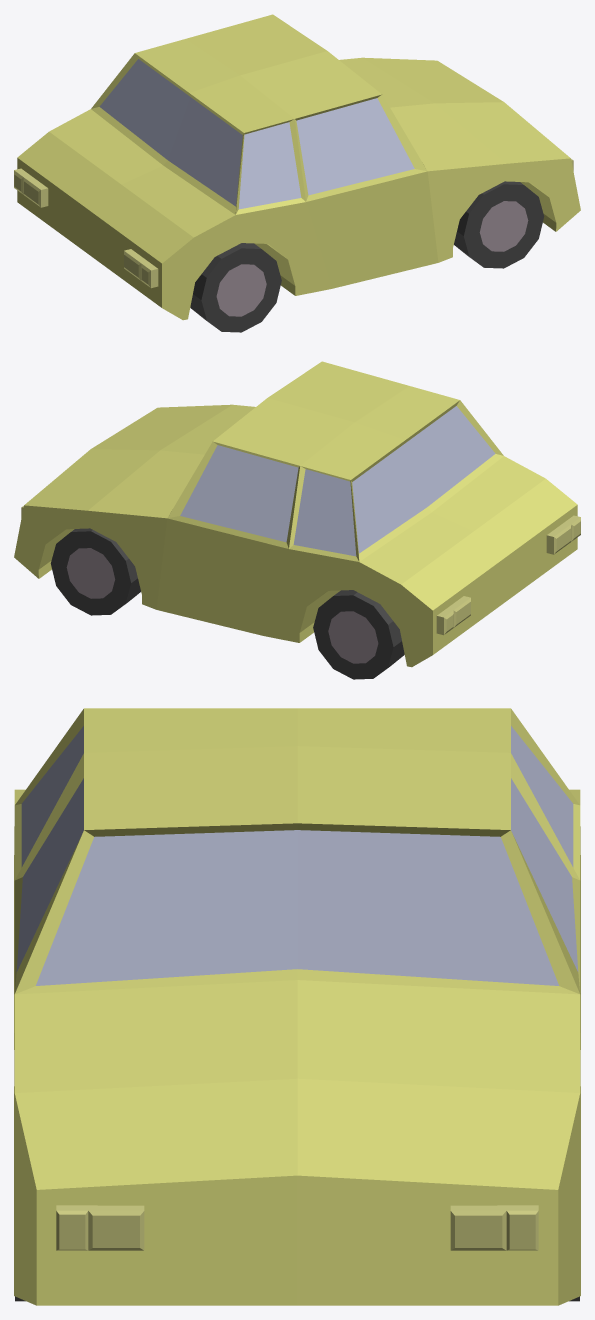
Rendered from car_yellow.fbx.
3 renders of one model, top to bottom at view 1: azimuth 30°, elevation 25°; view 2: azimuth 150°, elevation 25°; view 3: azimuth 270°, elevation 25°, orthographic. The views are drawn at different scales.
Parts seen in each view (by area): view 1: Cube; view 2: Cube; view 3: Cube.
Part boxes in pixels (x1=…): Cube: x1=14, y1=14, x2=580, y2=332; Cube: x1=14, y1=361, x2=580, y2=679; Cube: x1=14, y1=708, x2=580, y2=1305.
Bounding box in the file's own units: 572 × 240 × 332.
